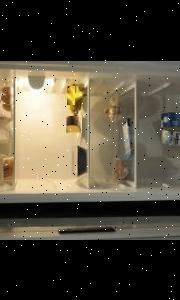Huevos: (1, 94, 12, 103), (1, 85, 12, 93), (3, 102, 12, 110)
Leche: (158, 111, 180, 127), (161, 129, 180, 145)
Plátano: (70, 92, 84, 110), (68, 85, 75, 104)
